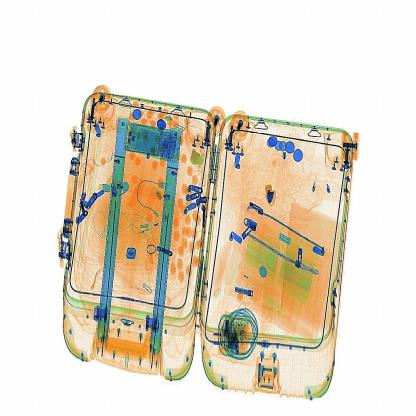wrench: (254, 179, 286, 215)
